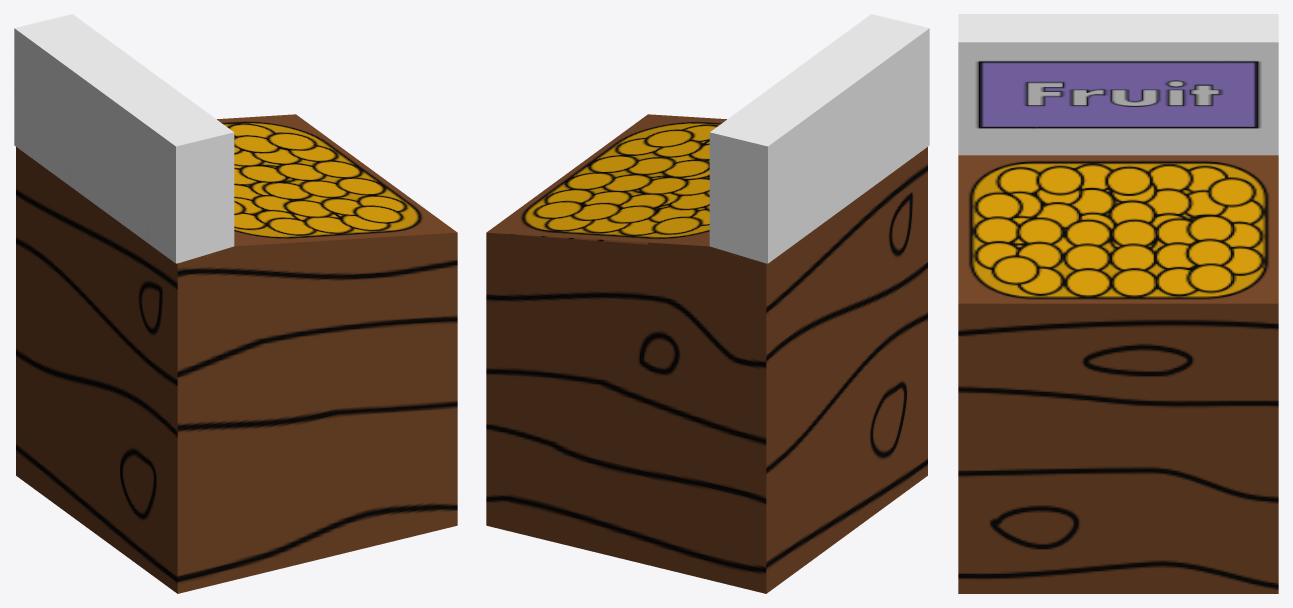
The model's file is FruitShelf.obj.
The picture shows the model from 3 angles, left to right: view 1: azimuth 30°, elevation 25°; view 2: azimuth 150°, elevation 25°; view 3: azimuth 270°, elevation 25°; orthographic projection.
Visible parts, largest first — view 1: pCube3; view 2: pCube3; view 3: pCube3.
Part boxes in pixels (x1,y1,x2,y2): pCube3: (14, 14, 457, 593); pCube3: (486, 14, 929, 593); pCube3: (958, 14, 1278, 593).
Size of the model in its own units: 2.52 by 3.82 by 2.5.
